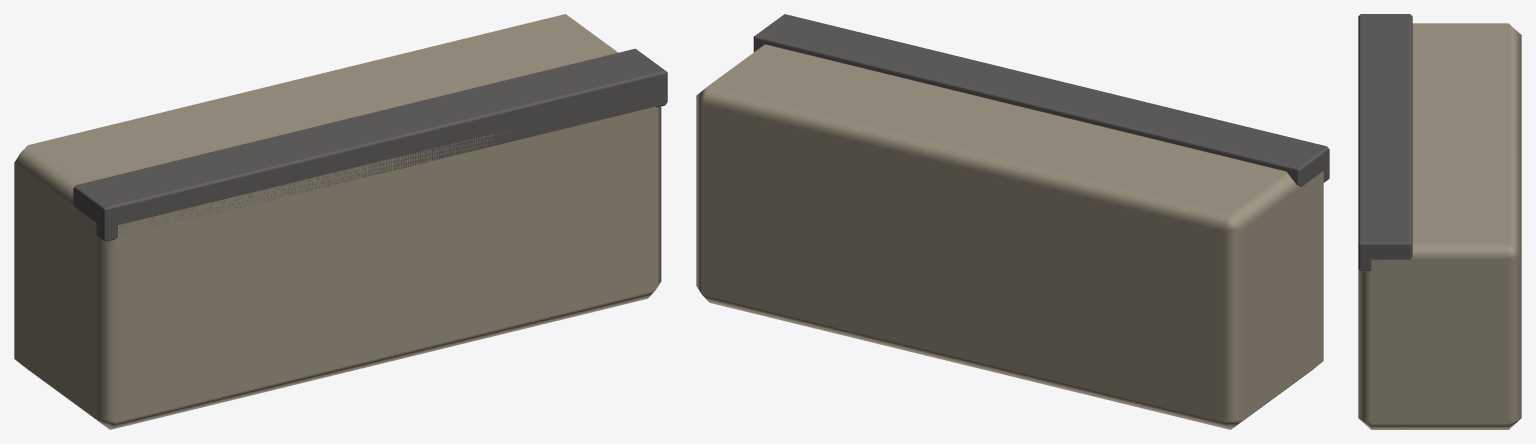
Rendered from stone-halls-stair-riser.73dc732c.glb.
3 views of the same model, side by side, from view 1: azimuth 30°, elevation 25°; view 2: azimuth 150°, elevation 25°; view 3: azimuth 270°, elevation 25° (orthographic). The views are drawn at different scales.
Visible parts, largest first — view 1: body; view 2: body; view 3: body.
Part boxes in pixels (x1,y1,x2,y2): body: [14, 14, 667, 429]; body: [696, 14, 1329, 429]; body: [1358, 14, 1521, 429].
Bounding box in the file's own units: 1 × 0.39 × 0.3.
